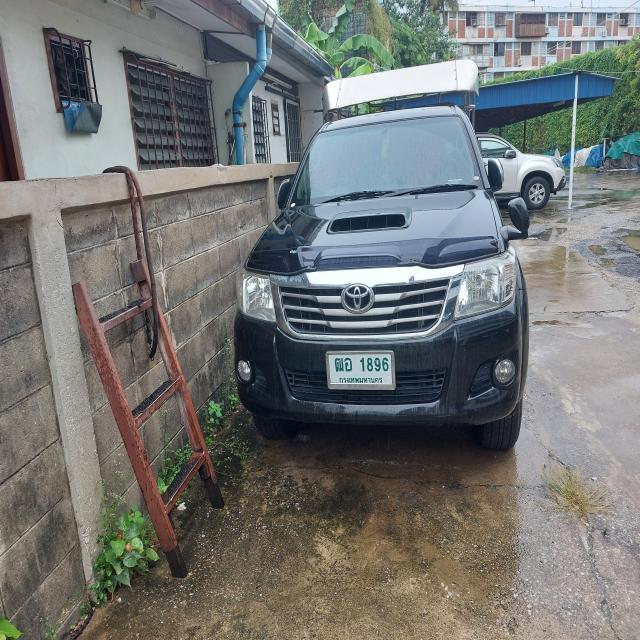license_plate: (324, 349, 396, 394)
